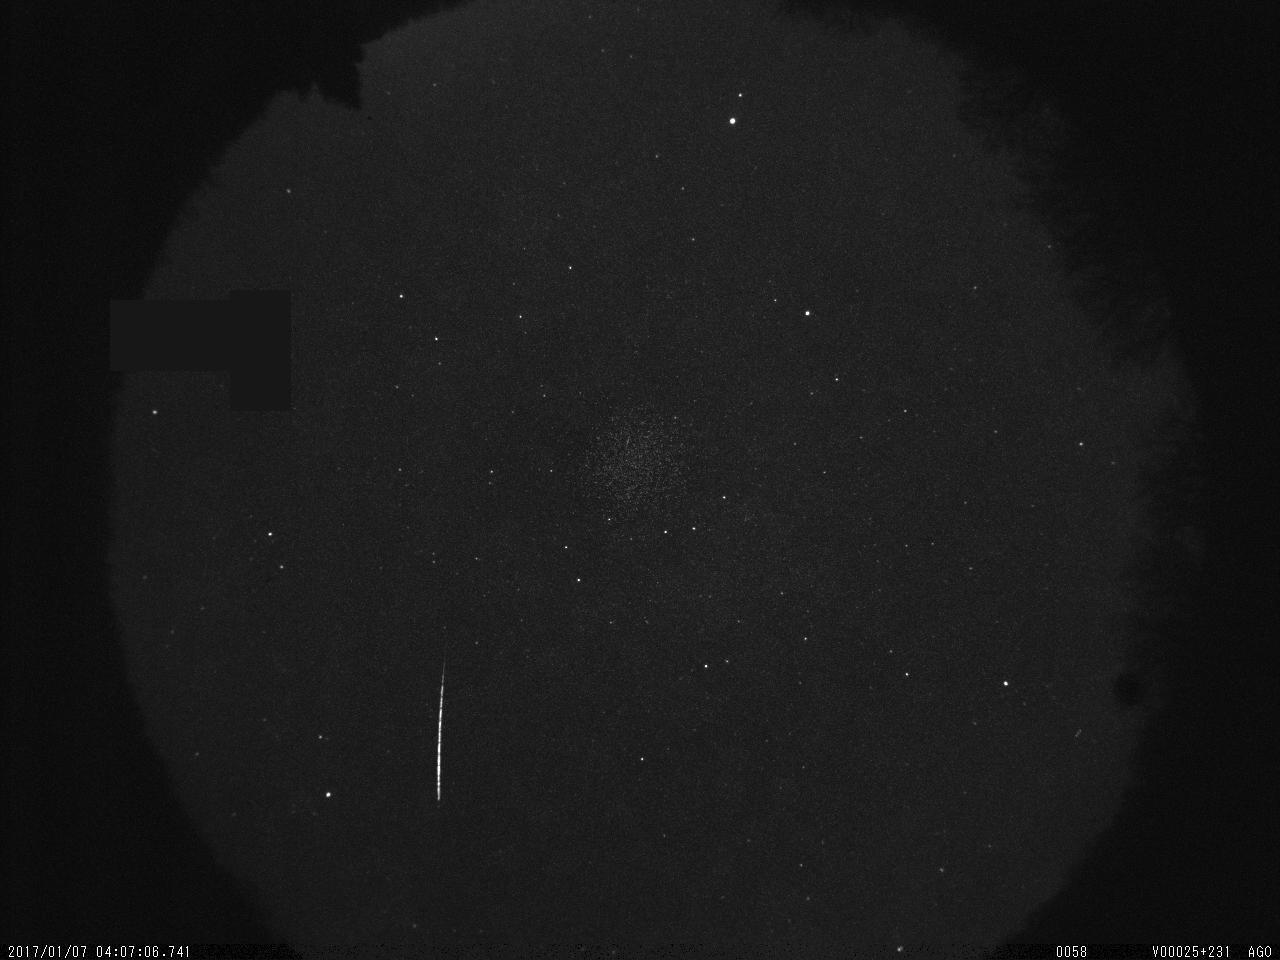Meteor: (432, 651, 447, 802)
